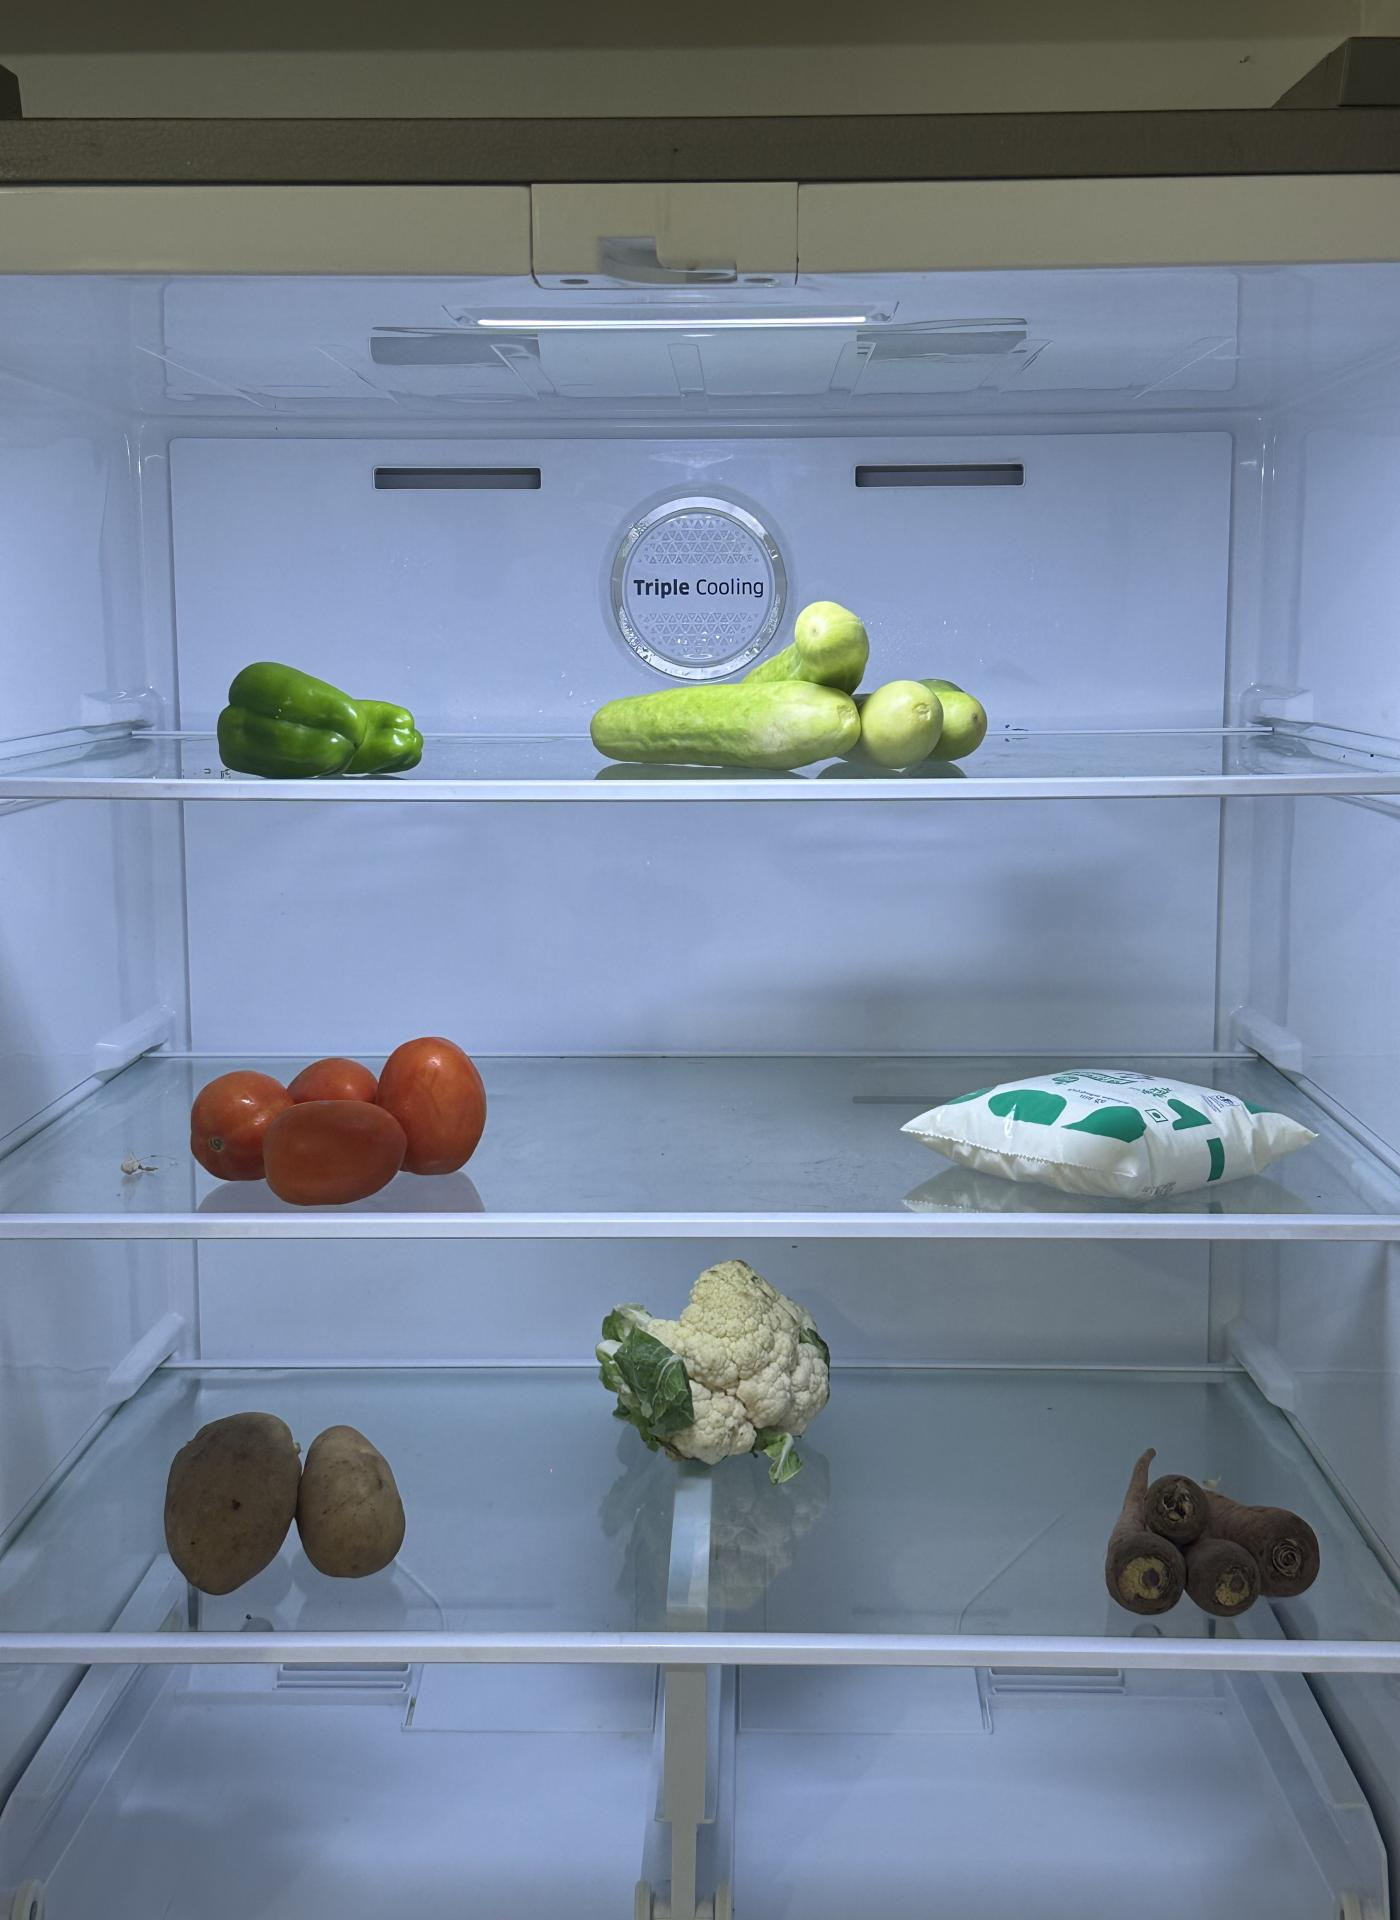capsicum: (204, 644, 440, 787)
carrots: (1066, 1425, 1339, 1622)
cauliflower: (565, 1249, 847, 1465)
cucumber: (584, 586, 999, 780)
milk: (899, 1039, 1321, 1203)
potato: (158, 1401, 410, 1595)
tomato: (177, 1039, 513, 1210)
